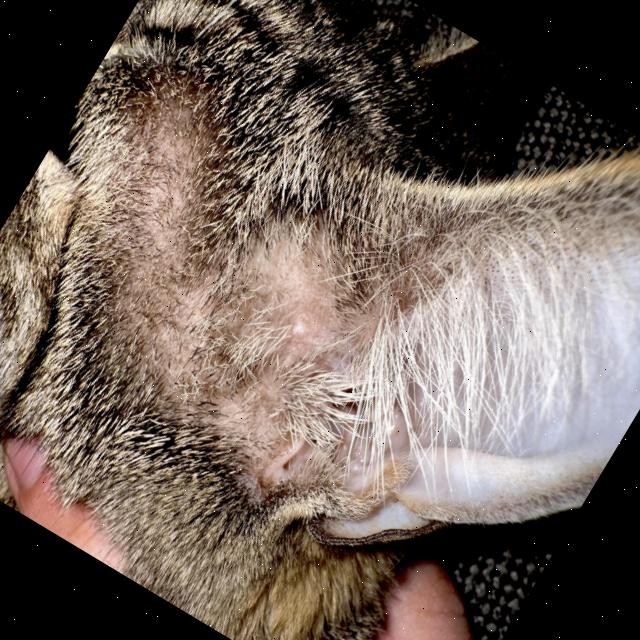cat-hairloss: (107, 156, 481, 552)
